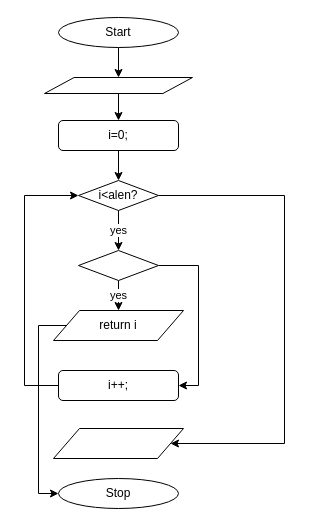
The diagram is 310 pixels wide and 526 high, and some of its shapes have lost their labels. The shapes that lost their labels are listed below. From the top down, each one's box as (x1, y1, x2, y2) in pixels, then its label:
(44, 76, 192, 94): array, alen, sval
(78, 250, 158, 280): arr[i]==sval
(52, 428, 184, 458): return -1
